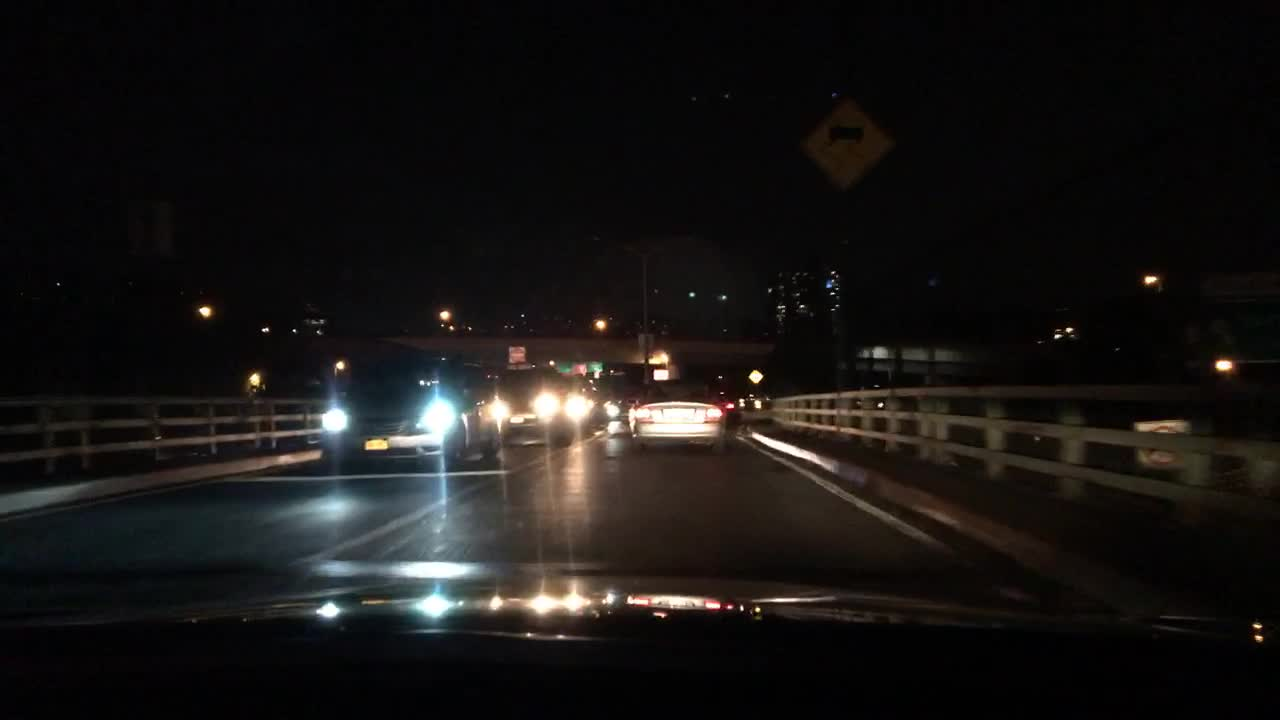car: (321, 354, 503, 474), (486, 363, 575, 447), (626, 380, 726, 453), (574, 388, 610, 435), (603, 393, 634, 421), (725, 394, 745, 416)
traffic sign: (802, 96, 890, 193), (1131, 417, 1189, 467), (506, 345, 526, 363), (637, 332, 653, 348), (650, 367, 668, 381), (555, 360, 572, 372), (747, 369, 762, 382), (588, 361, 602, 372), (571, 363, 586, 373), (753, 399, 761, 408)
